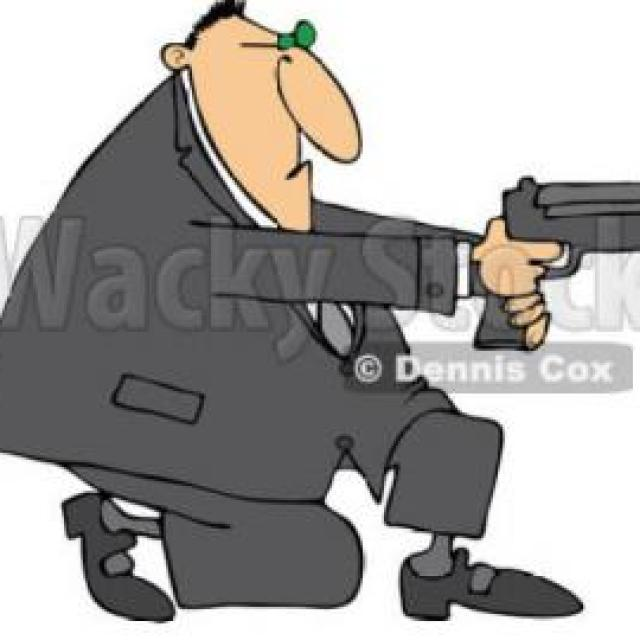pistol: (476, 168, 640, 348)
